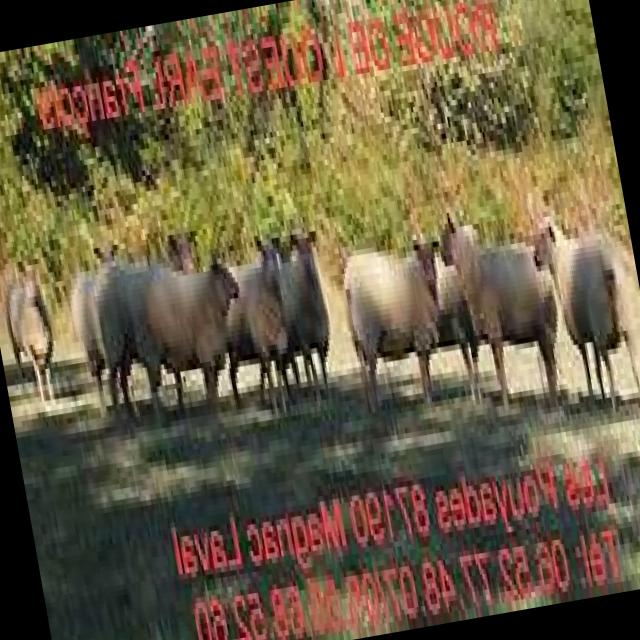animal: (433, 189, 585, 416), (527, 197, 640, 420), (336, 230, 466, 413), (138, 250, 260, 412), (208, 237, 309, 420), (0, 268, 67, 404)
